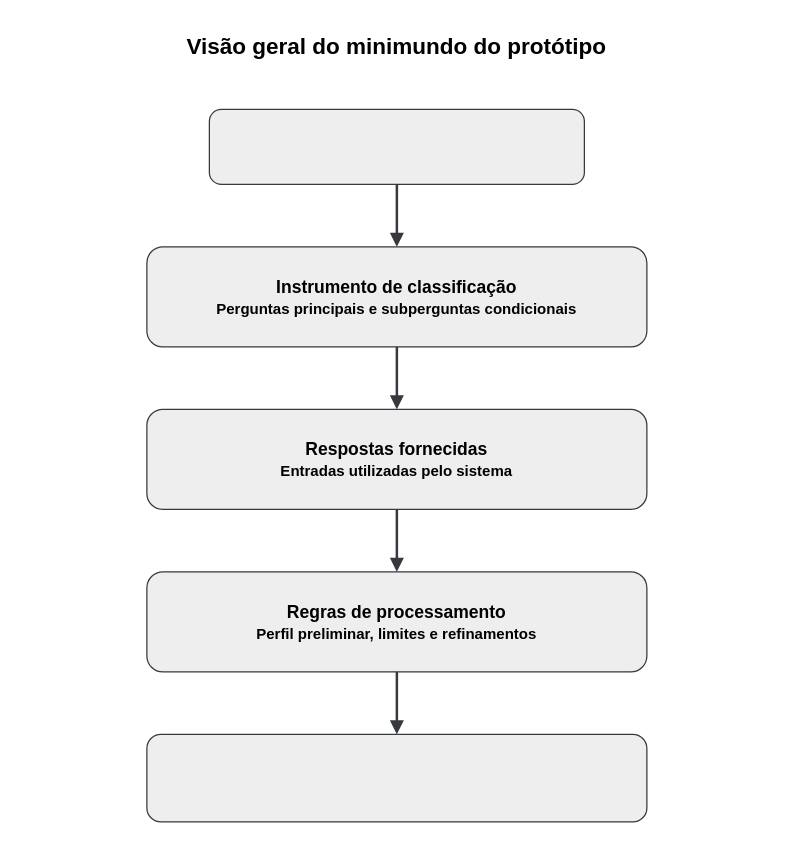
Image size: 793x844. Some labels were removed from this diagram. The shapes that lost their labels are listed below. From the top down, each one's centre as x and y in pixels, then its label:
the point at 396,146: Usuário
the point at 396,777: Perfil final + justificativa textual
